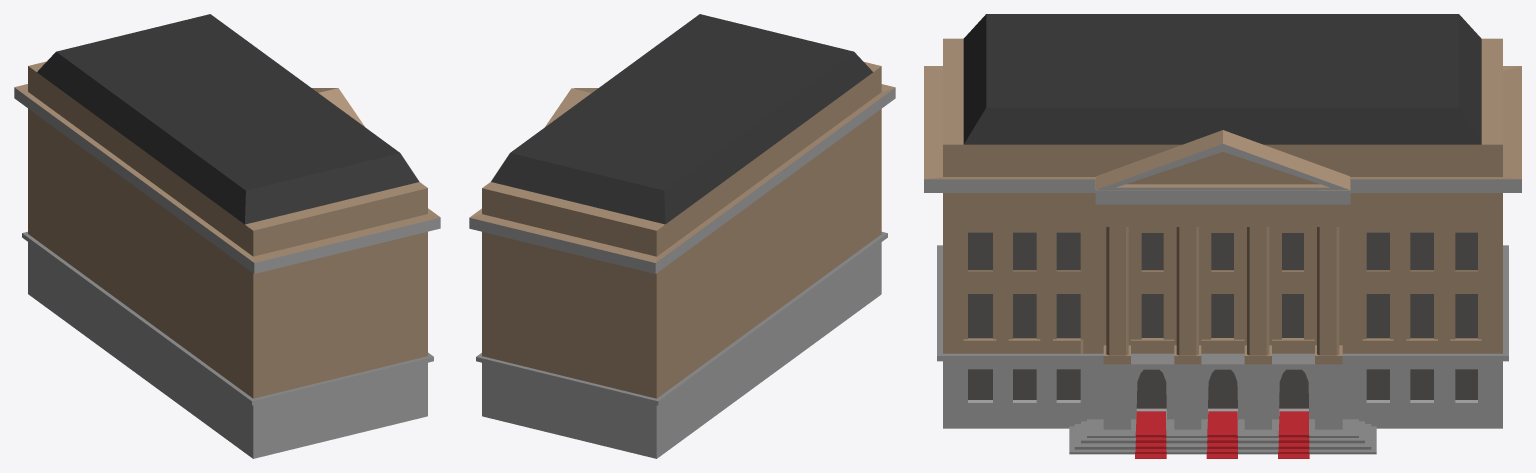
The model's file is Stadshuis_goed.fbx.
3 views of the same model, side by side, from view 1: azimuth 30°, elevation 25°; view 2: azimuth 150°, elevation 25°; view 3: azimuth 270°, elevation 25° (orthographic). The views are drawn at different scales.
Visible parts, largest first — view 1: polySurface10; view 2: polySurface10; view 3: polySurface10.
Part boxes in pixels (left/top/right/bottom): polySurface10: left=14, top=14, right=440, bottom=458; polySurface10: left=469, top=14, right=895, bottom=458; polySurface10: left=924, top=14, right=1521, bottom=458.
Bounding box in the file's own units: 0.1023 × 0.1065 × 0.1833.
